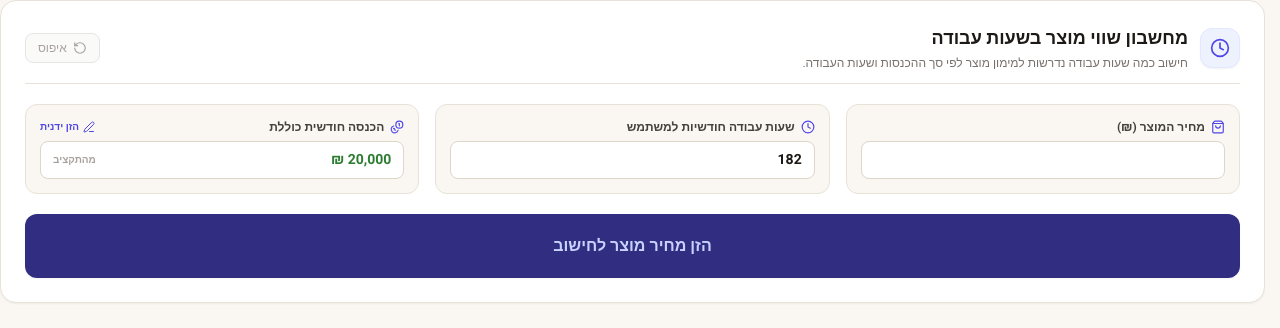
Test: WorkHoursCostCalculator Component › defaults product price to empty, prompts to enter price, and calculates correctly when filled
Type "1000" into the number field named "מחיר המוצר" at (1043,160), box [861,141,1225,179]
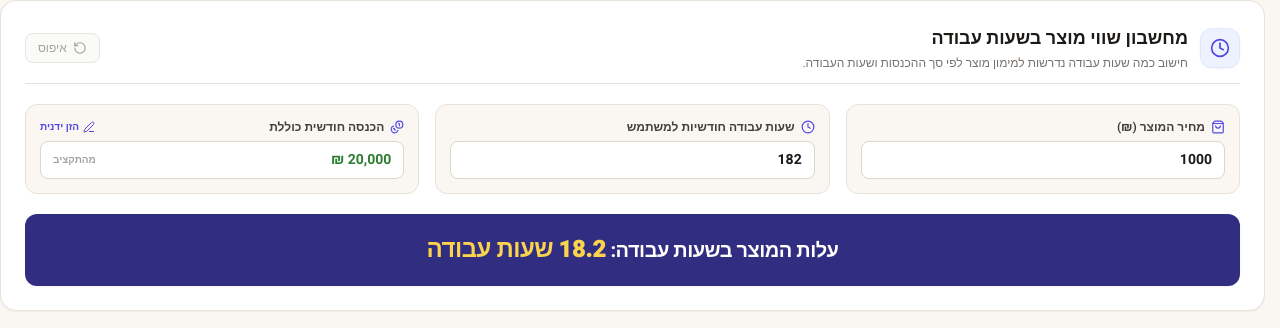
Expected: the text "עלות המוצר בשעות עבודה:" is shown, [606,236,838,265]
Expected: the text "18.2 שעות עבודה" is shown, [426,232,606,267]
